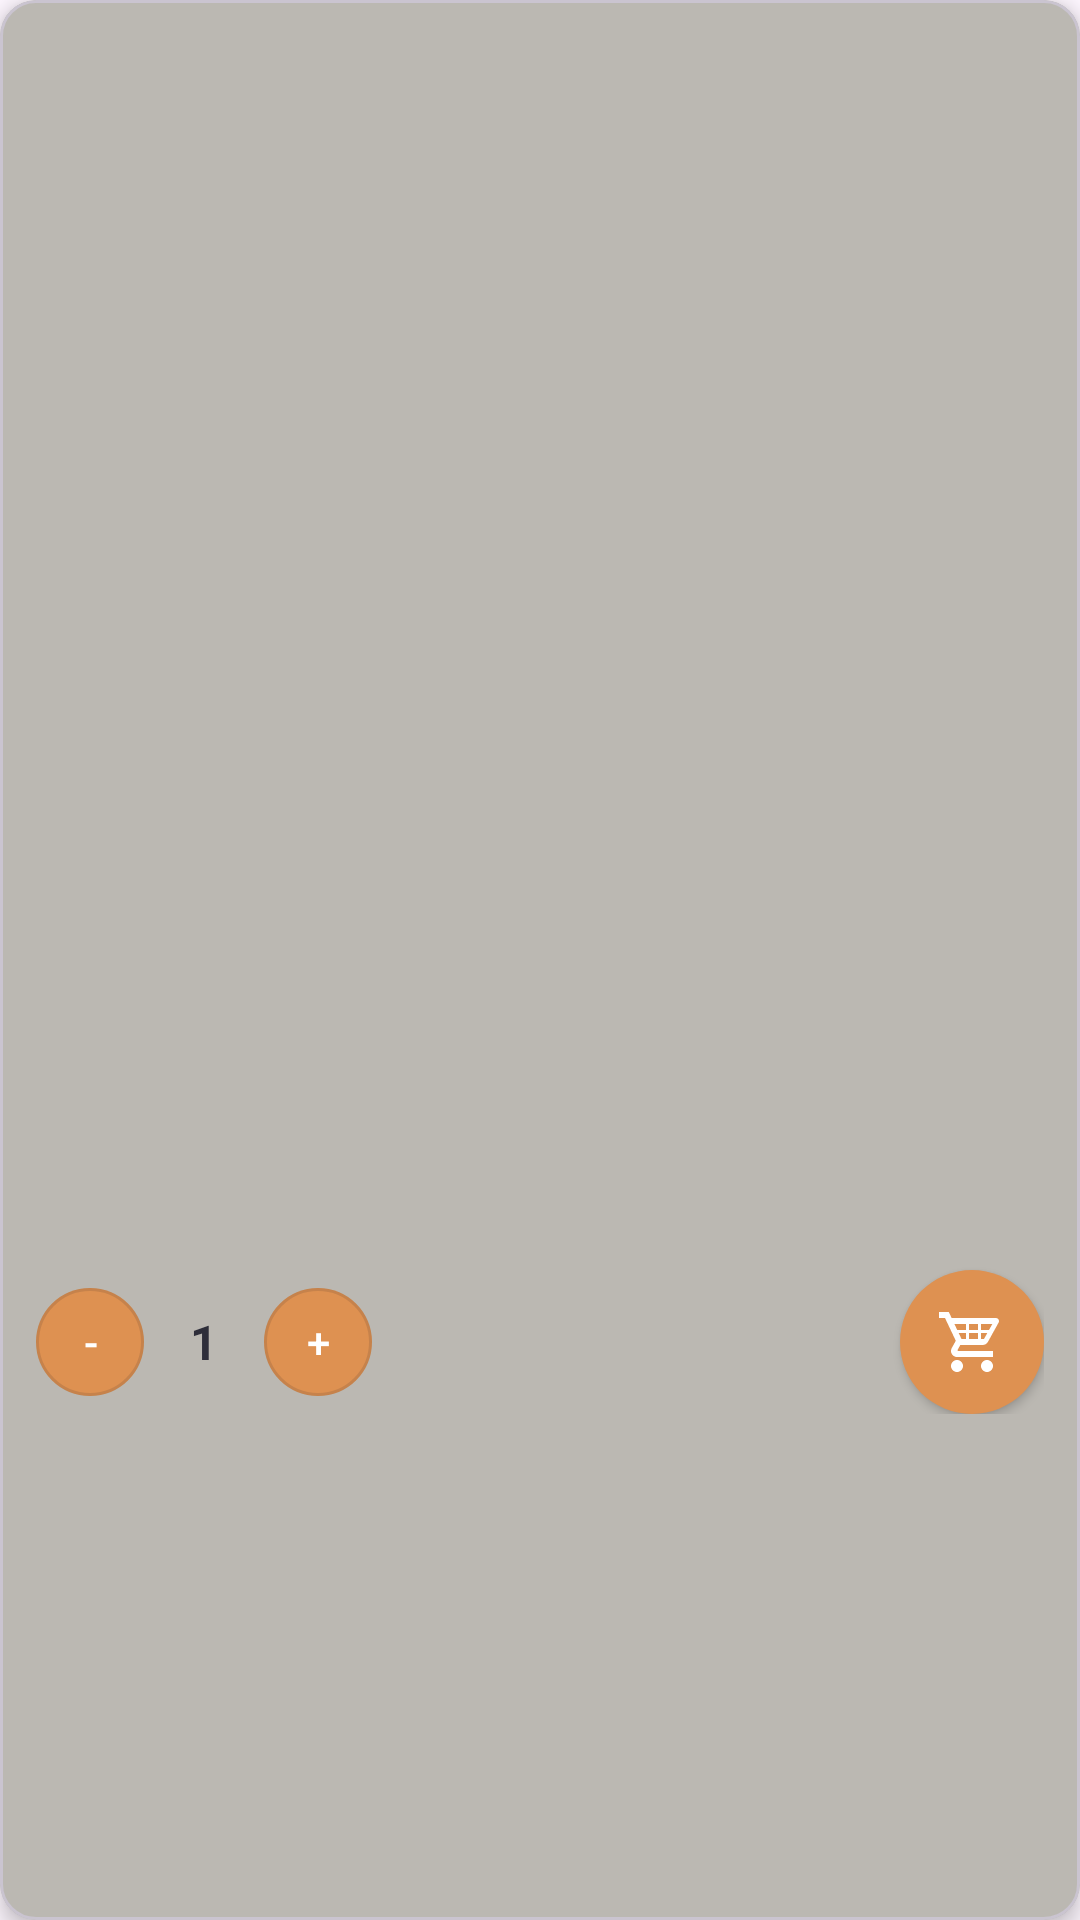

Icons on this 1080px×1920px Android screen, each with its box as (x1, y1, x2, y2):
shopping cart: (900, 1270, 1044, 1414)
